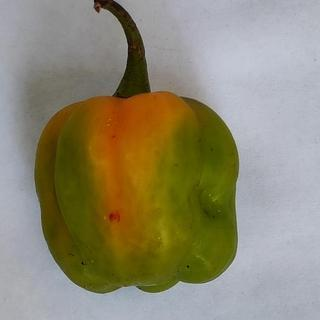Fly-bites: (180, 260, 198, 275), (80, 256, 90, 270)
